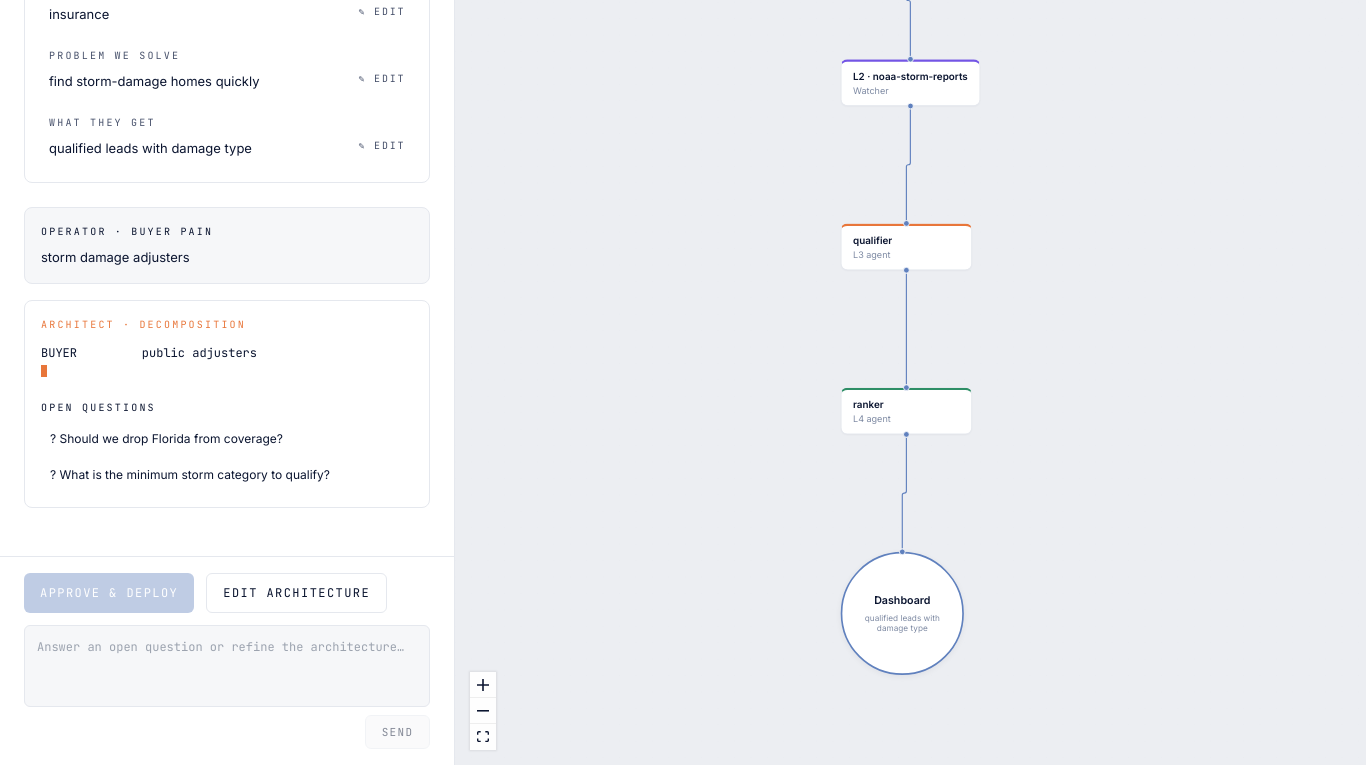
Test: <ArchitectThinking /> — conversation loop › resets the reveal cursor on each turn arrival so per-turn animation starts from 0
The width and height of the screenshot is (1366, 765).
(page scrolled)
Check: the text "BUYER public adjusters" is shown, box [41, 345, 257, 361]
Note: Send turn 2.
In the text box with test id "architect-composer": [227, 666] box [24, 625, 430, 707], type "drop Florida"
(page scrolled)
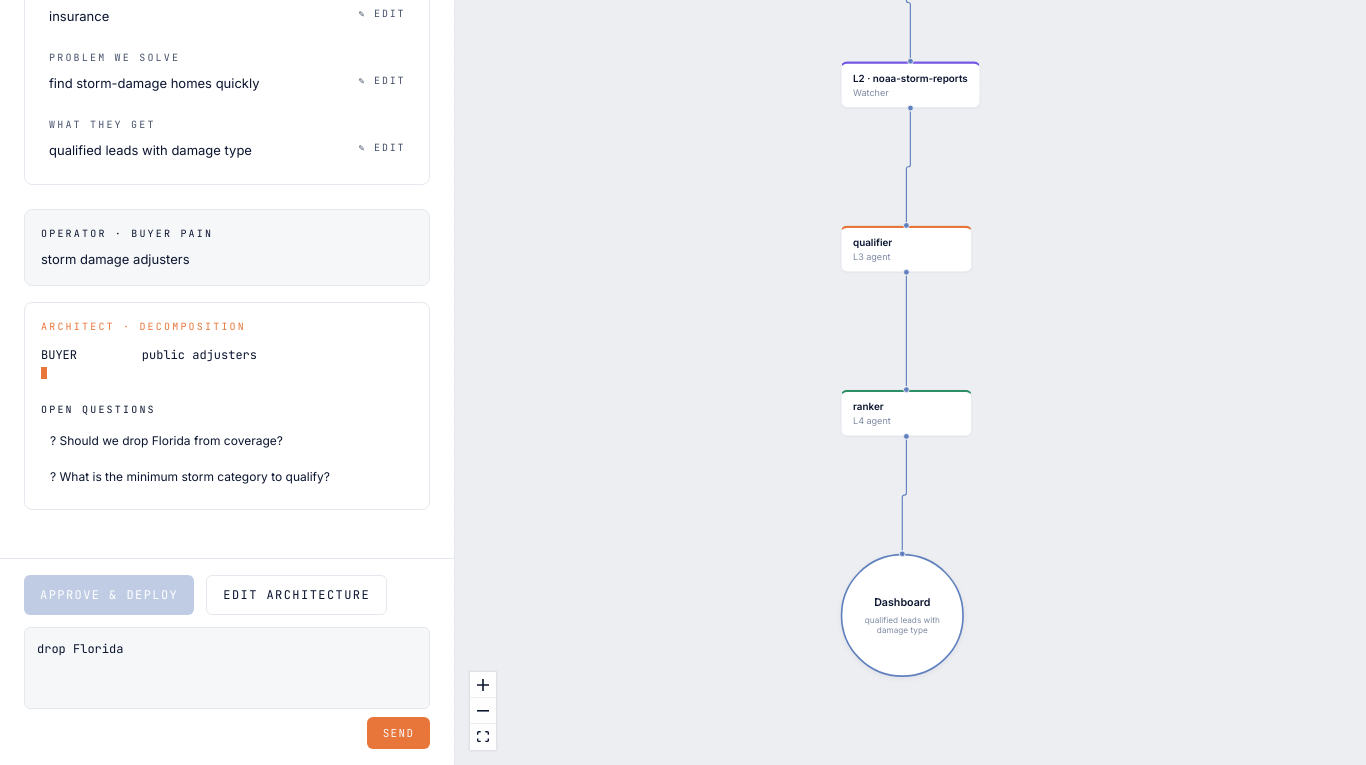
Click the button with test id "architect-composer-send": [398, 733] box [367, 717, 430, 749]
(page scrolled)
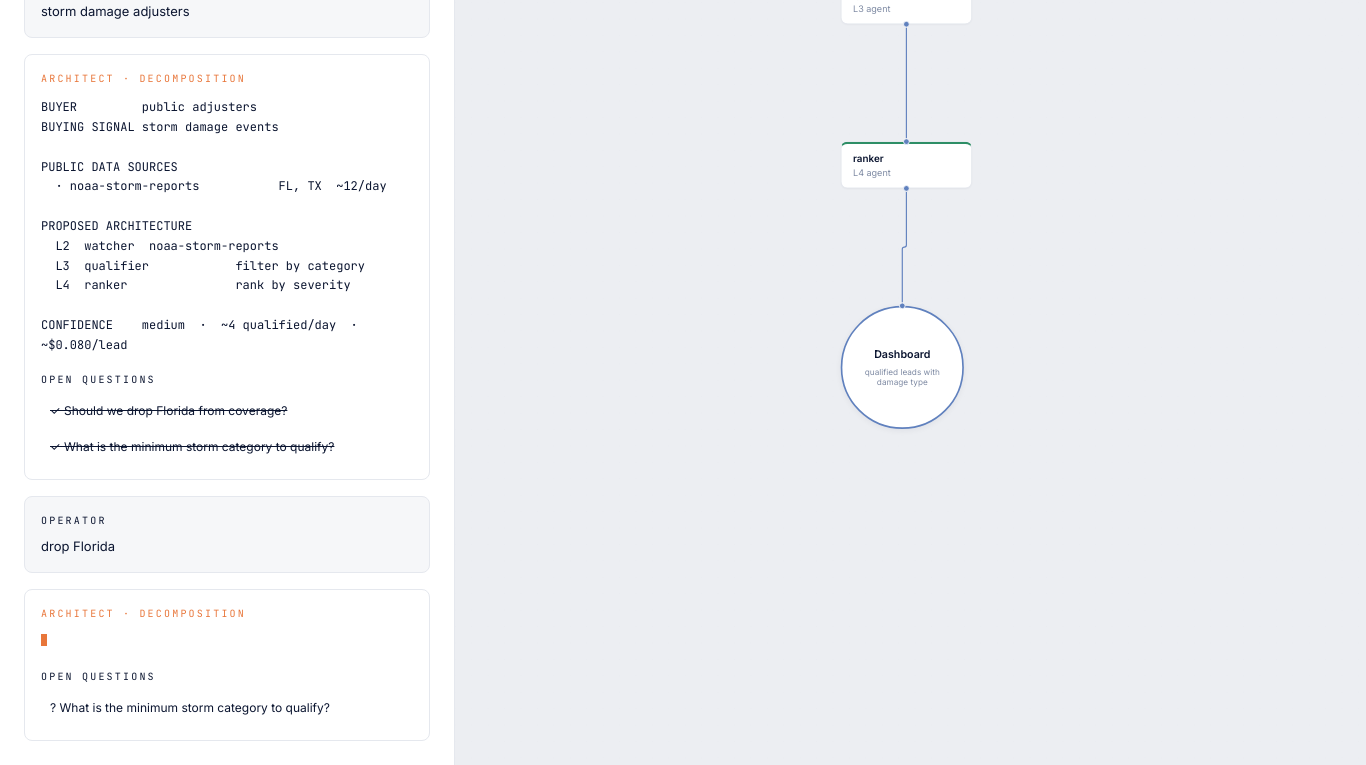
Check: the number of elements with test id "architect-message" is 2, box [24, 54, 430, 480]; [24, 589, 430, 740]
